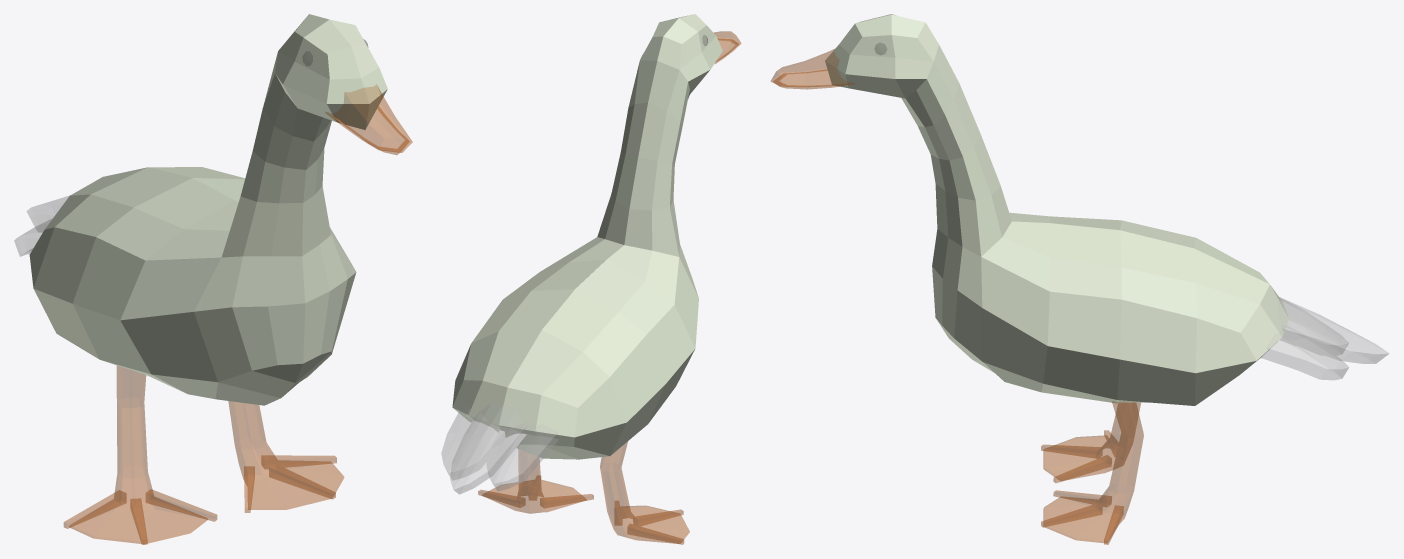
The model's file is Duck.glb.
3 renders of one model, left to right at view 1: azimuth 30°, elevation 25°; view 2: azimuth 150°, elevation 25°; view 3: azimuth 270°, elevation 25°, orthographic. The views are drawn at different scales.
Visible parts, largest first — view 1: duck; view 2: duck; view 3: duck.
Part boxes in pixels (bbox=[...]): duck: bbox=[14, 14, 412, 544]; duck: bbox=[441, 14, 741, 544]; duck: bbox=[771, 14, 1388, 544].
Bounding box in the file's own units: 1.77 × 3.57 × 4.2.
